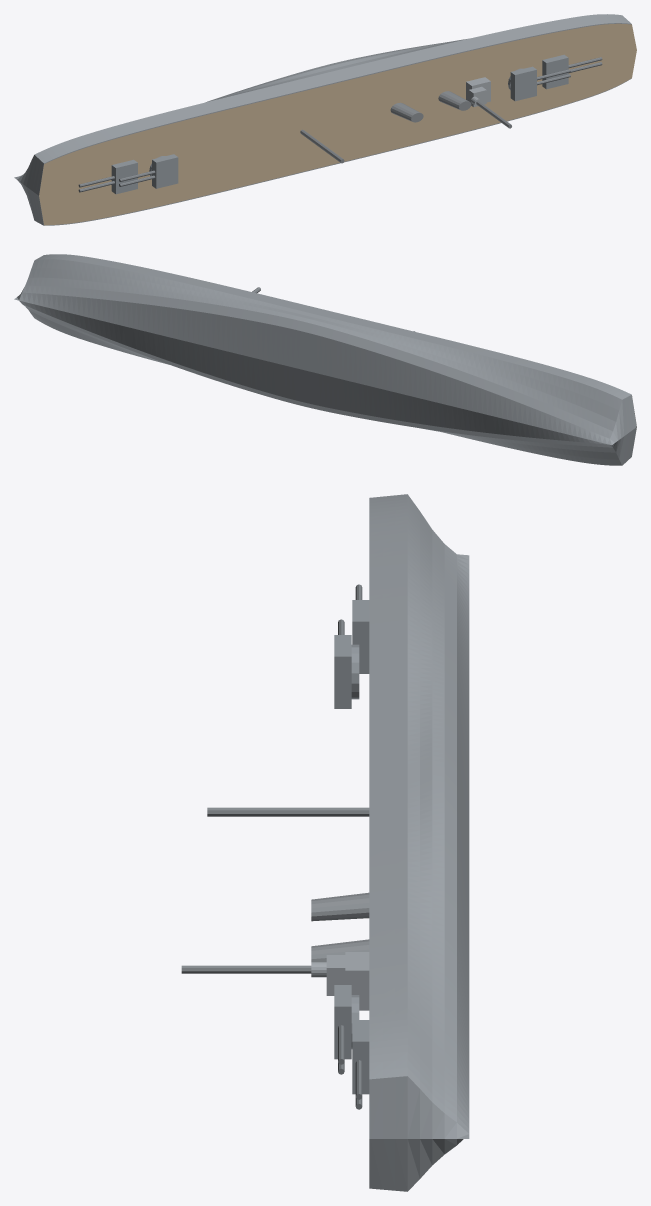
The model's file is 長門型_陸奥.glb.
3 views of the same model, one above another, from view 1: azimuth 30°, elevation 25°; view 2: azimuth 150°, elevation 25°; view 3: azimuth 270°, elevation 25° (orthographic). The views are drawn at different scales.
Parts seen in each view (by area): view 1: 長門型_陸奥; view 2: 長門型_陸奥; view 3: 長門型_陸奥.
Part boxes in pixels (left/top/right/bottom): 長門型_陸奥: left=14, top=14, right=636, bottom=225; 長門型_陸奥: left=14, top=254, right=636, bottom=465; 長門型_陸奥: left=181, top=494, right=469, bottom=1191.
Bounding box in the file's own units: 214 × 29.7 × 44.47.
